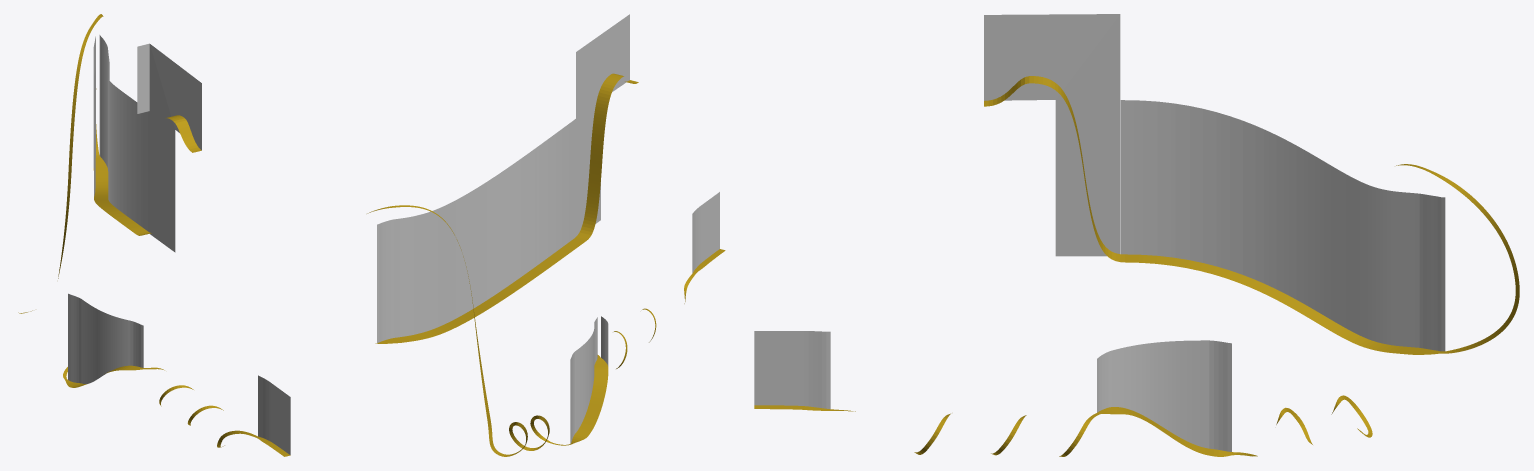
The model's file is SkyRoad01.gltf.
The picture shows the model from 3 angles, left to right: view 1: azimuth 30°, elevation 25°; view 2: azimuth 150°, elevation 25°; view 3: azimuth 270°, elevation 25°; orthographic projection. The views are drawn at different scales.
Parts seen in each view (by area): view 1: SkyRoadWall01, SkyRoad01; view 2: SkyRoadWall01, SkyRoad01; view 3: SkyRoadWall01, SkyRoad01.
Boxes of the visible parts, box(x1,y1,x2,y2) form: SkyRoadWall01: box(68, 35, 290, 454); SkyRoad01: box(18, 14, 290, 456); SkyRoadWall01: box(377, 14, 719, 443); SkyRoad01: box(367, 73, 725, 456); SkyRoadWall01: box(754, 14, 1445, 451); SkyRoad01: box(754, 76, 1519, 456).
Size of the model in its own units: 49.32 by 111 by 169.
